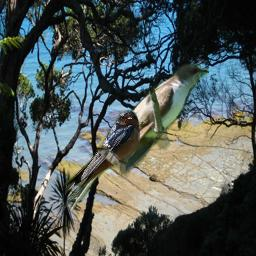Cuckoo: (68, 63, 209, 213)
Swallow: (62, 110, 140, 209)
